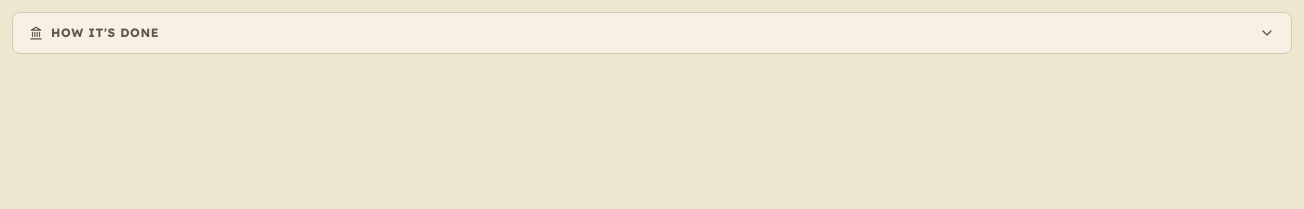
CultureNotes › is collapsed by default and opens on tap
Check: the text "Coffee first" is not shown
Click the button "How it's done". click: (105, 32)
box: [13,13,1291,53]
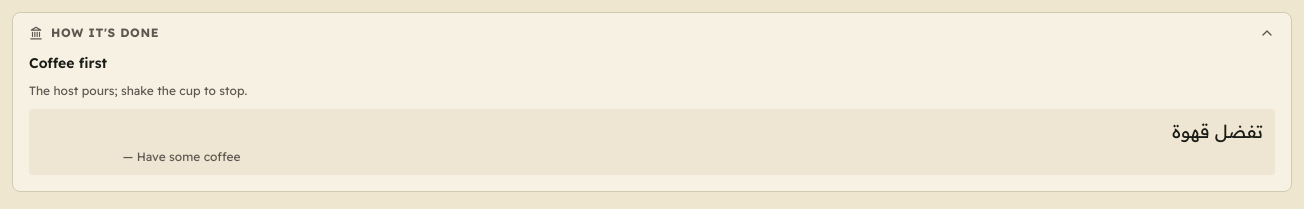
Check: the text "Coffee first" is shown, box [29,54,107,72]
Check: the text "The host pours; shake the cup to stop." is shown, box [29,83,247,98]
Check: the text "تفضل قهوة" is shown, box [1172,120,1263,142]
